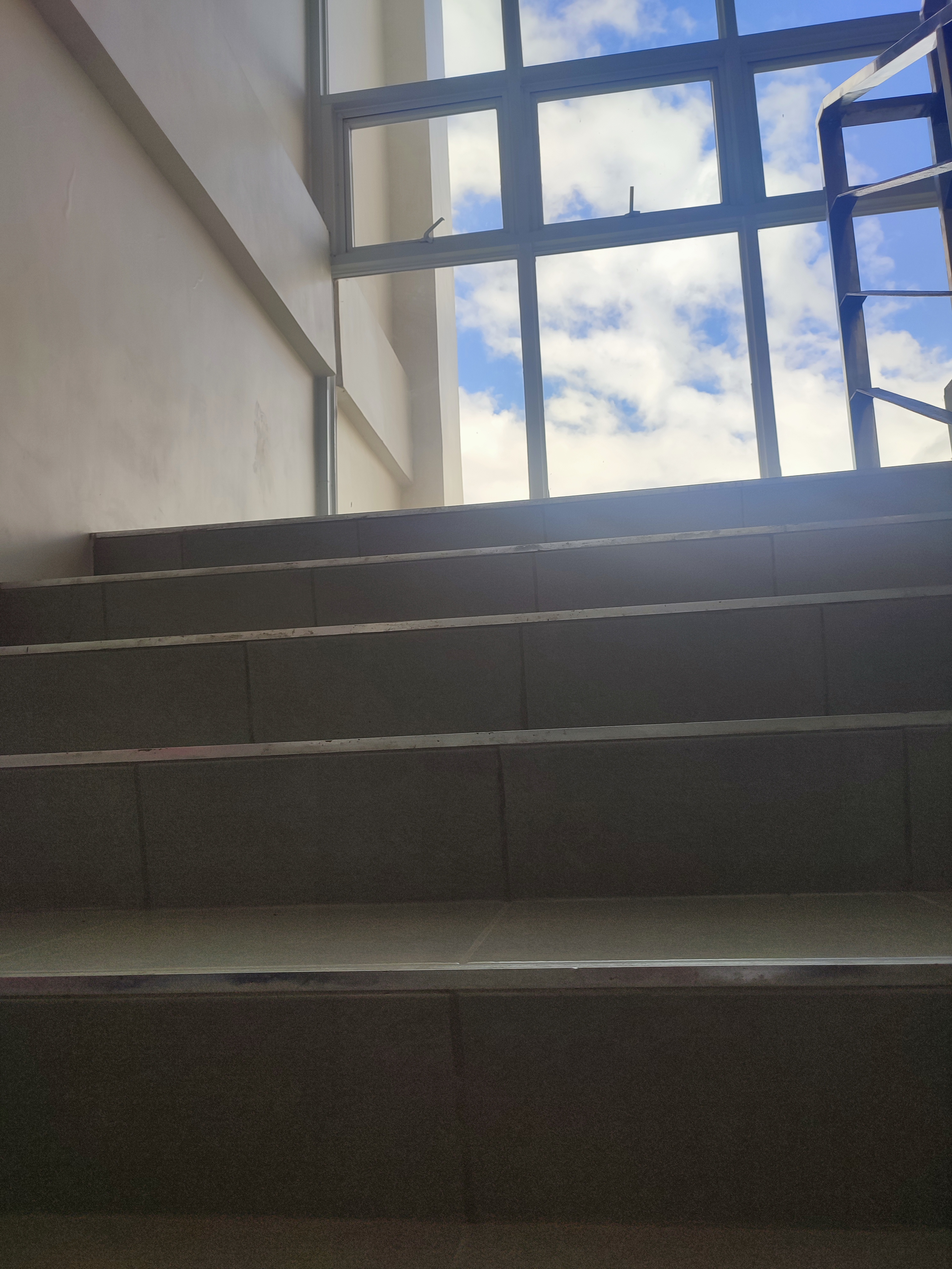Staircase: (0, 463, 952, 1269)
